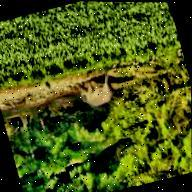boar: (65, 66, 123, 117)
